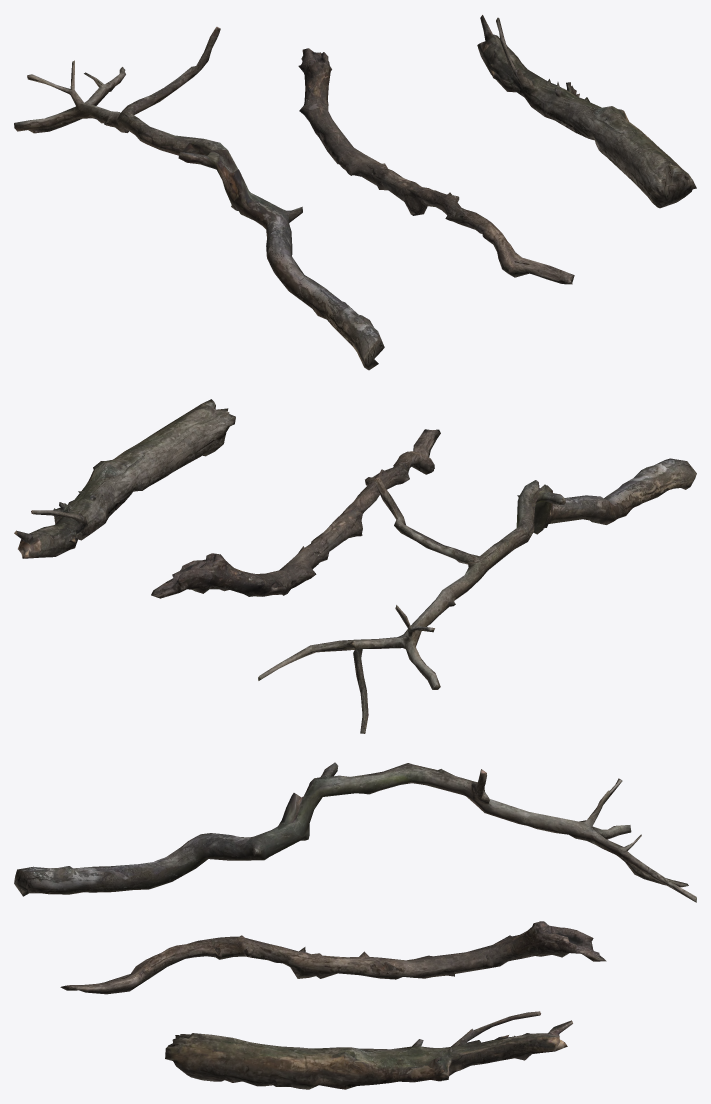
Rendered from dry_branches_medium_01.glb.
The picture shows the model from 3 angles, top to bottom: view 1: azimuth 30°, elevation 25°; view 2: azimuth 150°, elevation 25°; view 3: azimuth 270°, elevation 25°; orthographic projection. The views are drawn at different scales.
Visible parts, largest first — view 1: dry_branches_medium_01; view 2: dry_branches_medium_01; view 3: dry_branches_medium_01.
Boxes of the visible parts, <box> form: dry_branches_medium_01: <box>14,15,696,370</box>; dry_branches_medium_01: <box>14,399,696,733</box>; dry_branches_medium_01: <box>14,762,696,1089</box>.
Size of the model in its own units: 1.06 by 0.3411 by 1.3.
Materials: 1 (1 with a texture image).
